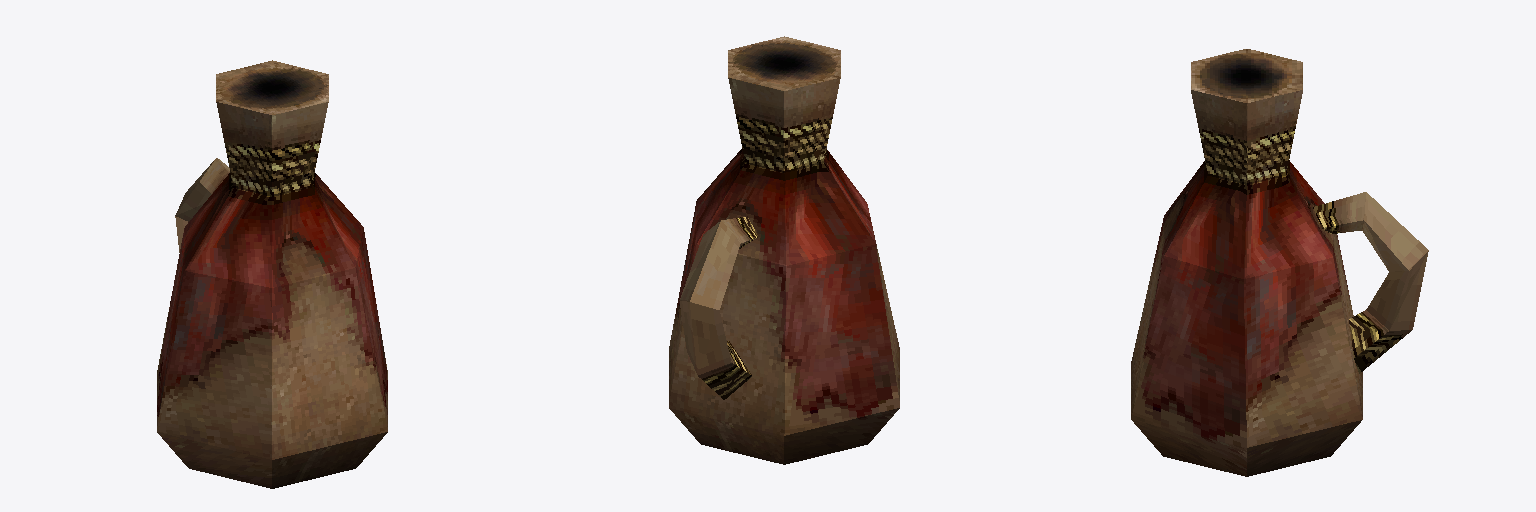
3 renders of one model, left to right at view 1: azimuth 30°, elevation 25°; view 2: azimuth 150°, elevation 25°; view 3: azimuth 270°, elevation 25°, orthographic.
Visible parts, largest first — view 1: OrcJug01; view 2: OrcJug01; view 3: OrcJug01.
Part boxes in pixels (bbox=[...]): OrcJug01: bbox=[157, 60, 387, 488]; OrcJug01: bbox=[669, 36, 899, 464]; OrcJug01: bbox=[1131, 49, 1428, 476].
Size of the model in its own units: 0.9978 by 1.48 by 1.11.
Materials: 1 (1 with a texture image).